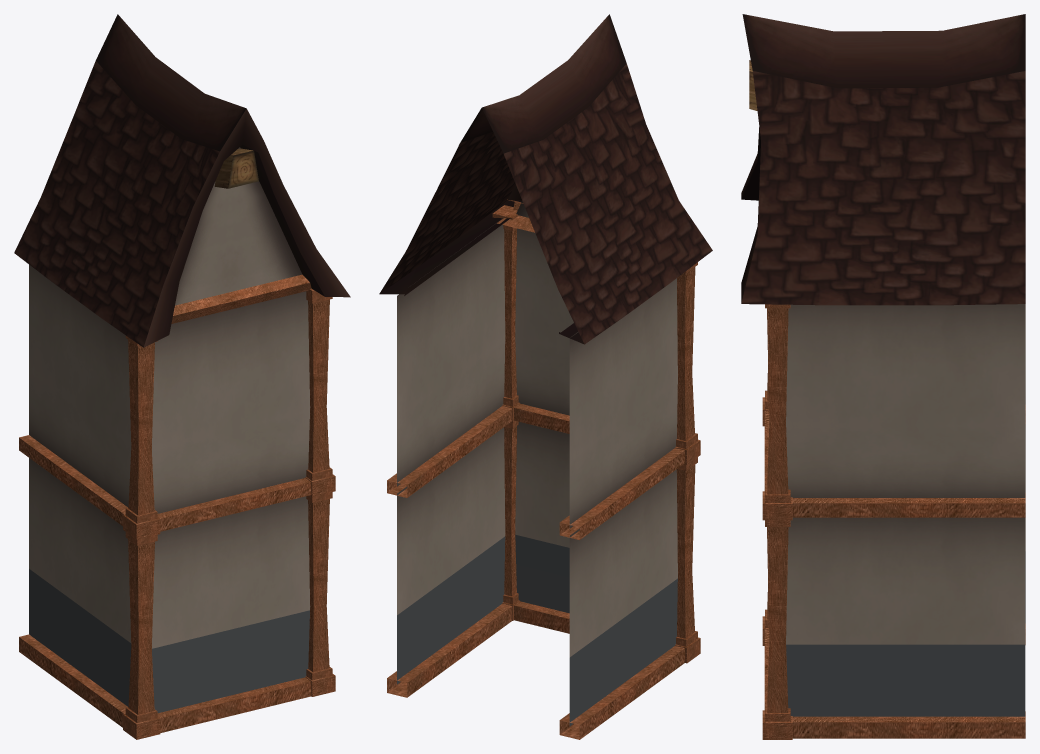
File: fanasty_mod_extention_piece_C.fbx
3 renders of one model, left to right at view 1: azimuth 30°, elevation 25°; view 2: azimuth 150°, elevation 25°; view 3: azimuth 270°, elevation 25°, orthographic. The views are drawn at different scales.
Parts seen in each view (by area): view 1: extention_piece_C; view 2: extention_piece_C; view 3: extention_piece_C.
Part boxes in pixels (<box>): extention_piece_C: <box>14,14,350,739</box>; extention_piece_C: <box>379,14,712,739</box>; extention_piece_C: <box>741,14,1025,739</box>.
Size of the model in its own units: 3.85 by 10.88 by 4.16.
